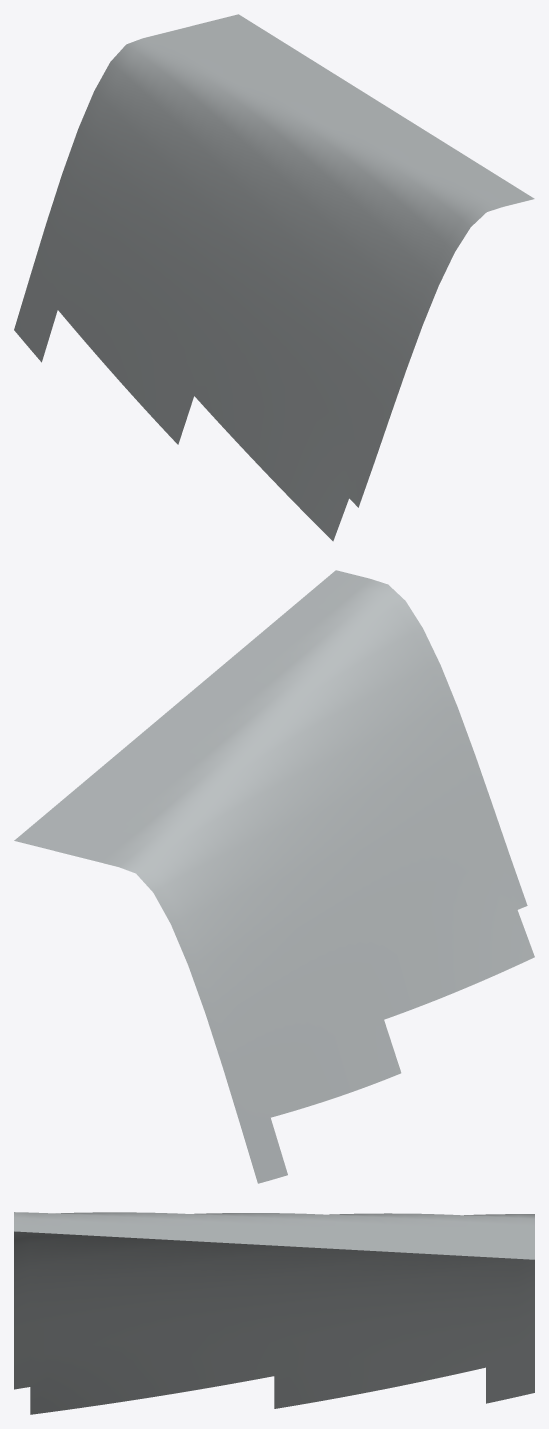
Rendered from alpine-11-5.glb.
The picture shows the model from 3 angles, top to bottom: view 1: azimuth 30°, elevation 25°; view 2: azimuth 150°, elevation 25°; view 3: azimuth 270°, elevation 25°; orthographic projection. The views are drawn at different scales.
Parts seen in each view (by area): view 1: alpine-11-5; view 2: alpine-11-5; view 3: alpine-11-5.
Boxes of the visible parts, x1,y1,x2,y2 form: alpine-11-5: (14, 14, 534, 541); alpine-11-5: (14, 570, 534, 1183); alpine-11-5: (14, 1212, 534, 1414).
Size of the model in its own units: 112 by 146 by 256.
1 material, 1 textured.
